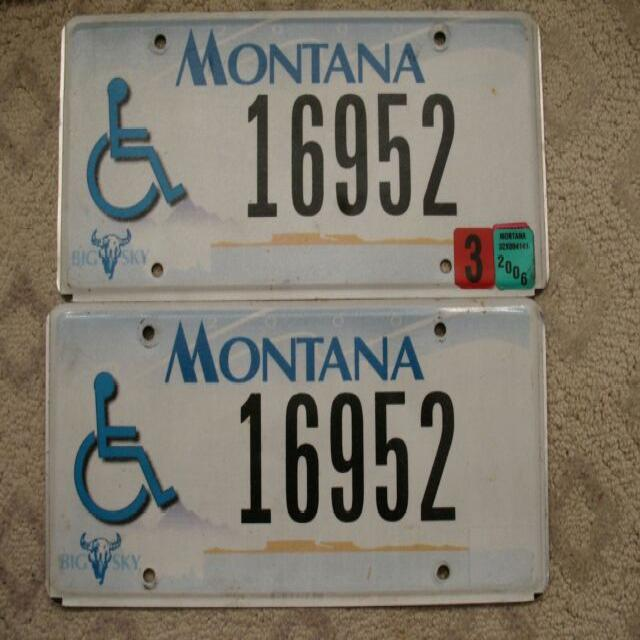symbol_of_access: (57, 357, 187, 532), (82, 71, 202, 229)
